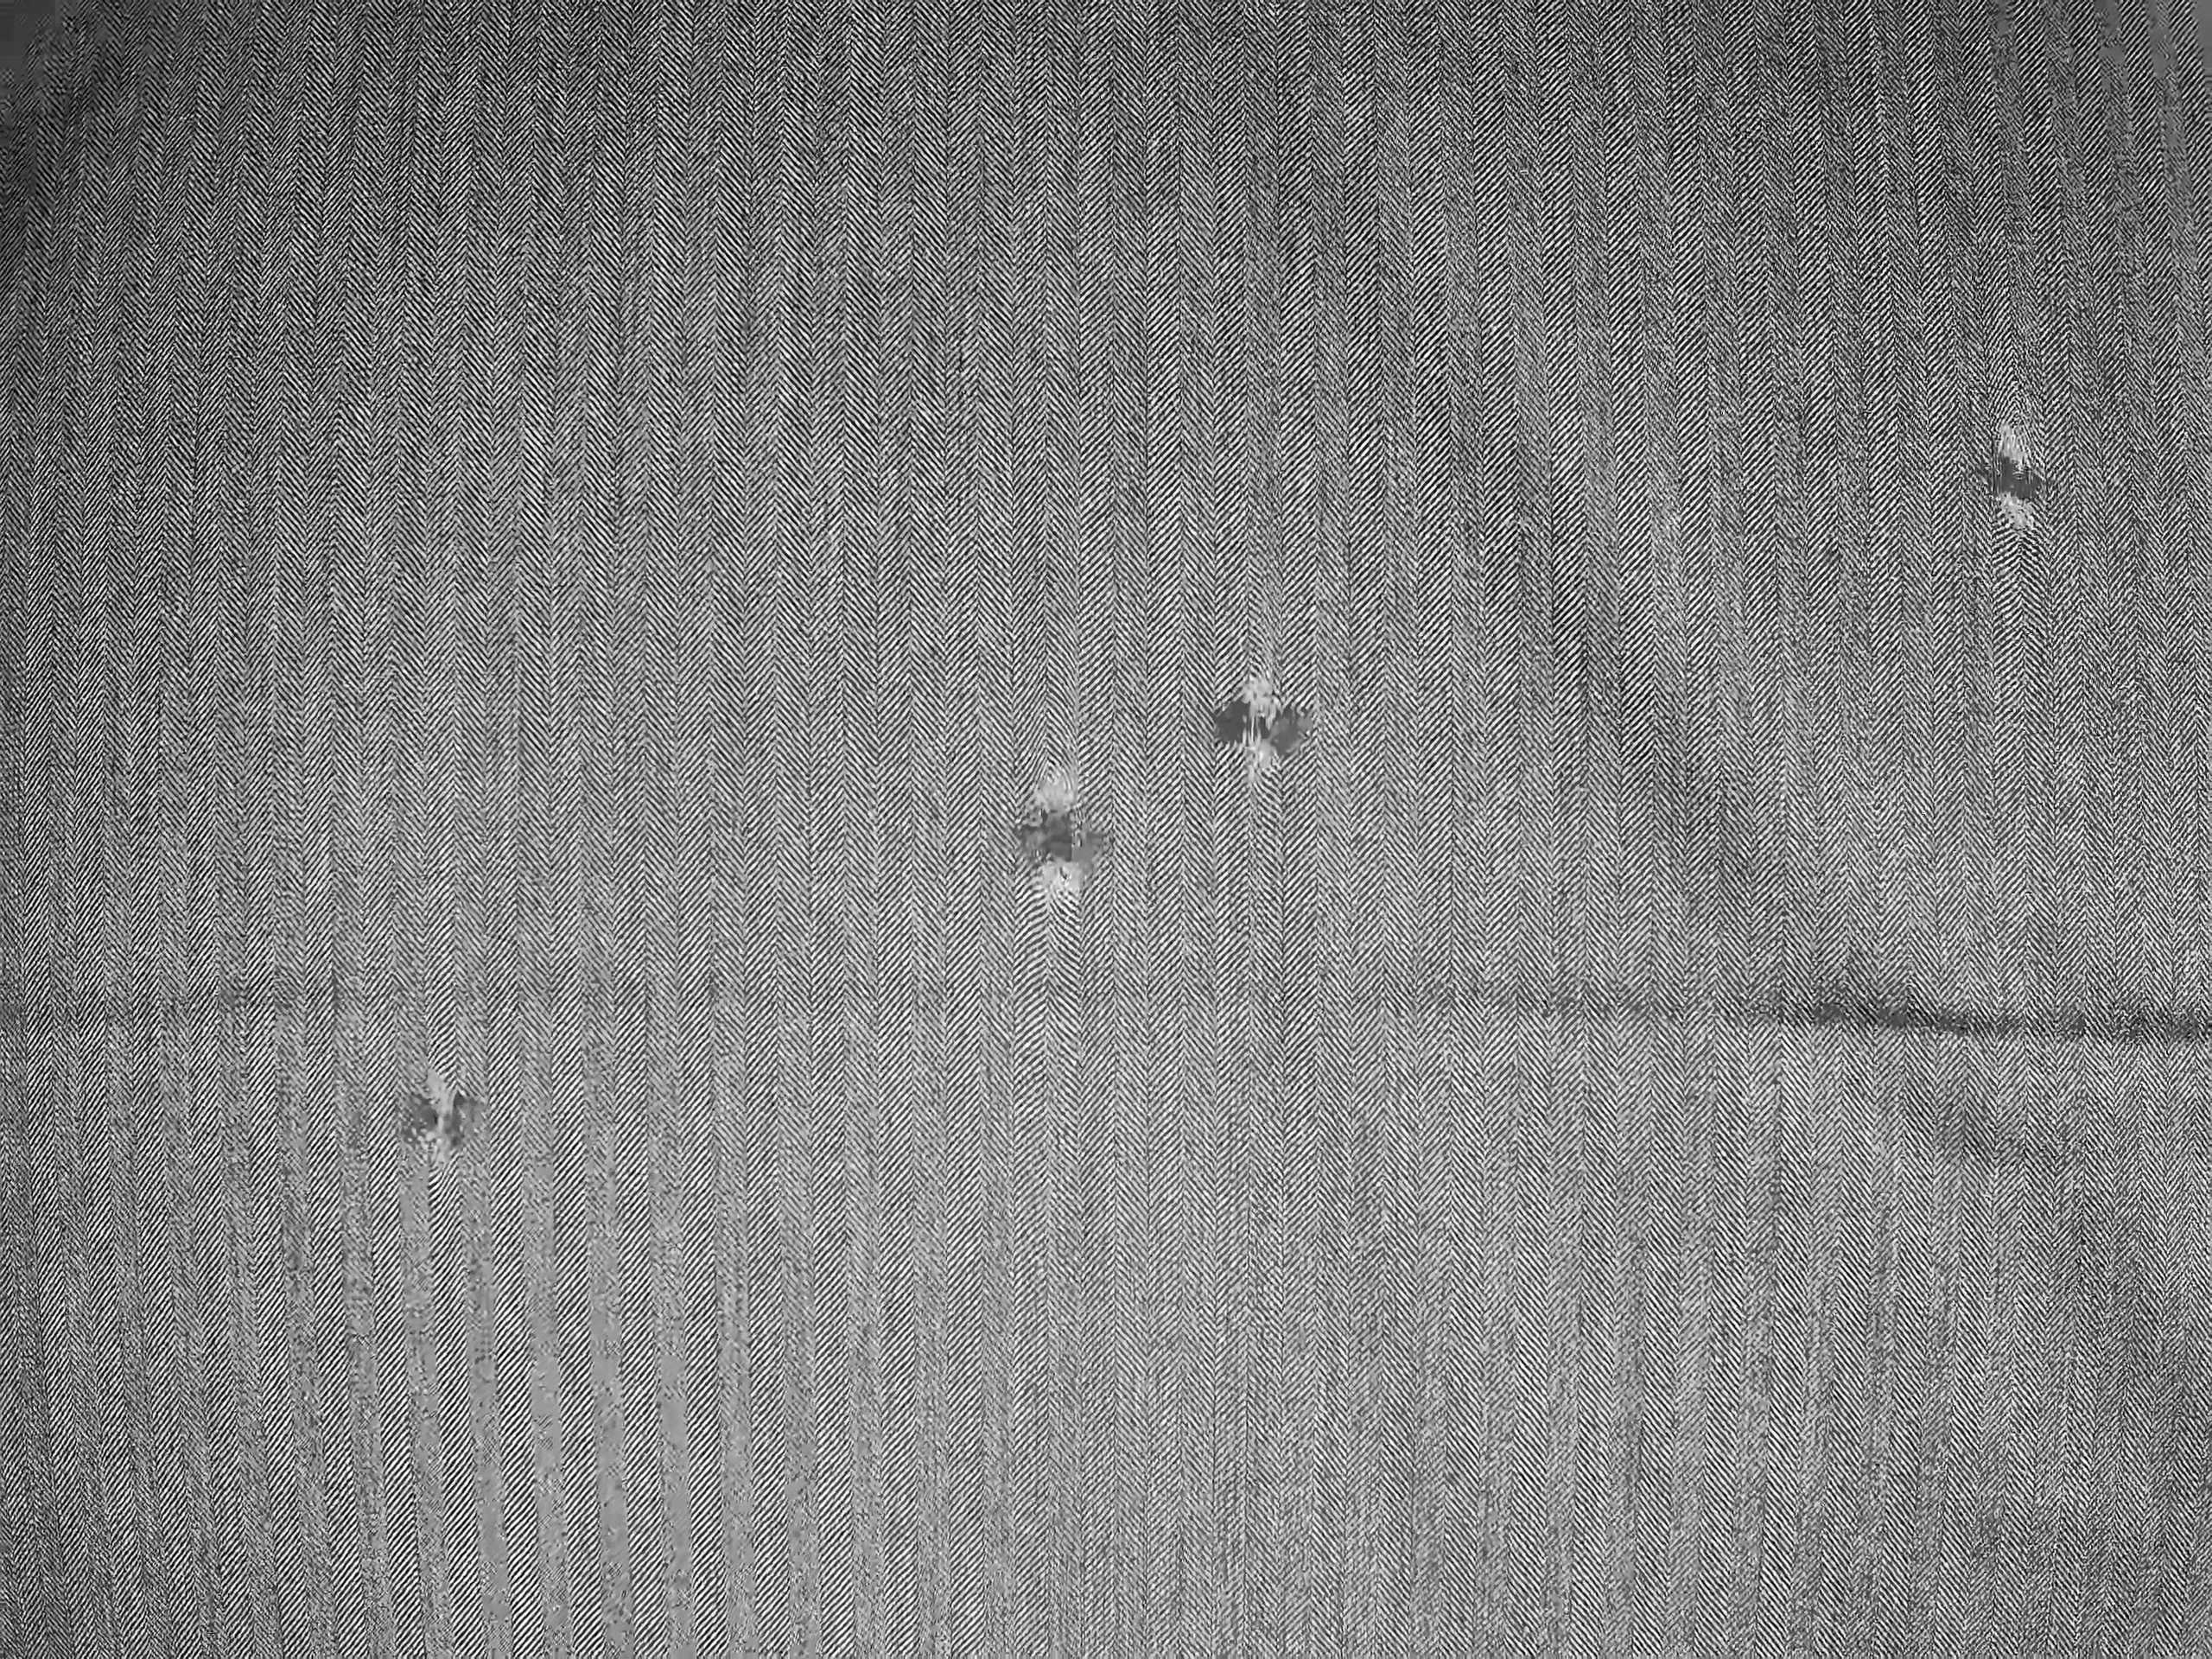rubbing-hole: (986, 756, 1134, 917), (1954, 403, 2088, 547), (1191, 660, 1331, 796), (376, 1053, 510, 1180)
